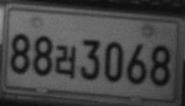0: (102, 41, 124, 83)
3: (79, 39, 100, 80)
6: (125, 44, 147, 84)
8: (149, 44, 172, 86), (9, 33, 30, 74), (32, 35, 53, 76)
러: (55, 44, 77, 78)
